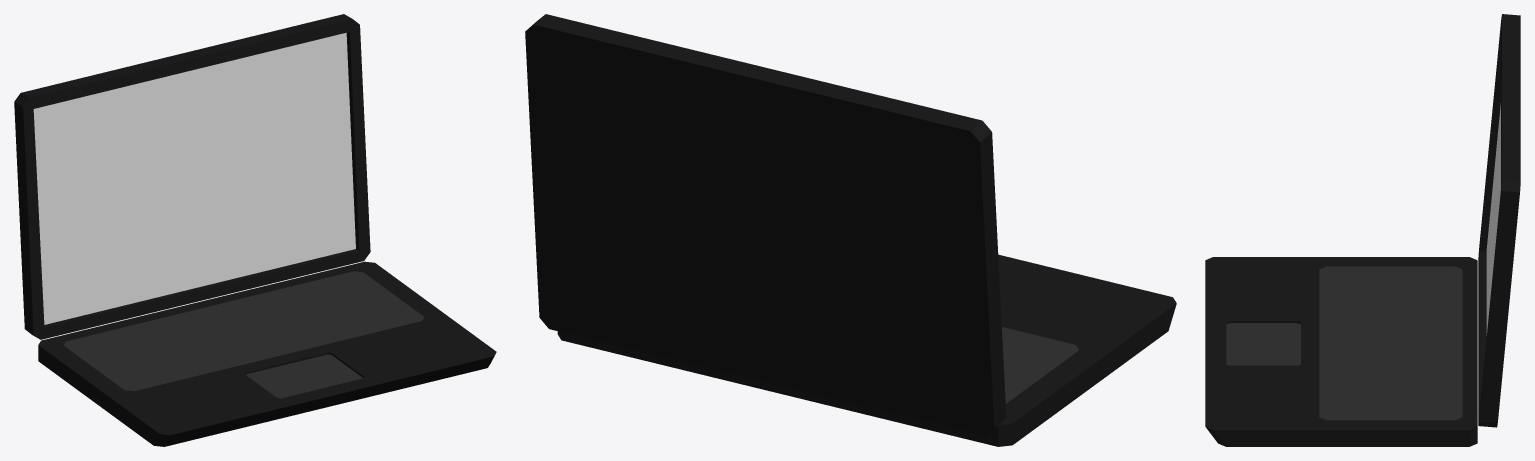
The model's file is Laptop.fbx.
3 views of the same model, side by side, from view 1: azimuth 30°, elevation 25°; view 2: azimuth 150°, elevation 25°; view 3: azimuth 270°, elevation 25° (orthographic). The views are drawn at different scales.
Visible parts, largest first — view 1: Plane; view 2: Plane; view 3: Plane.
Part boxes in pixels (x1=…): Plane: x1=14, y1=14, x2=496, y2=446; Plane: x1=525, y1=14, x2=1176, y2=446; Plane: x1=1205, y1=14, x2=1520, y2=446.
Size of the model in its own units: 1069 by 759 by 824.
